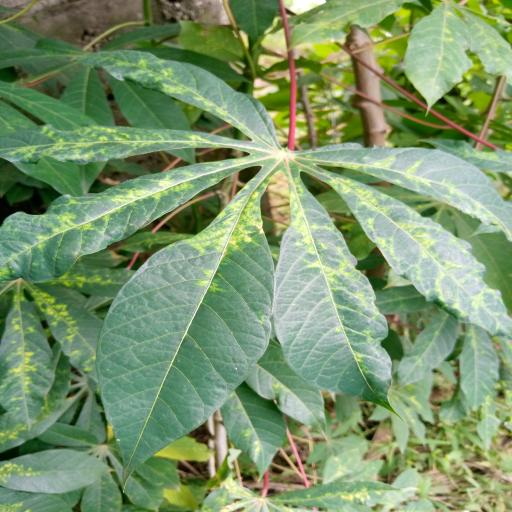Cassava_Mosaic: (0, 52, 512, 470)
